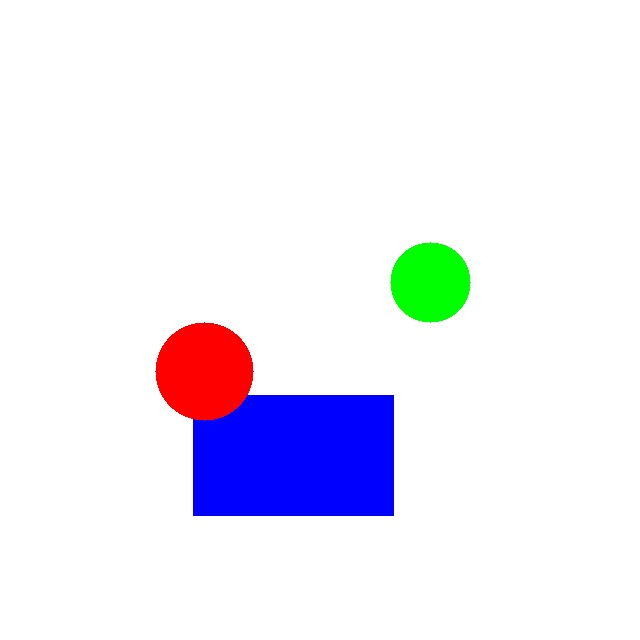cartao: (193, 395, 393, 515)
rosca_externa: (390, 242, 470, 322)
rosca_interna: (155, 322, 253, 420)
